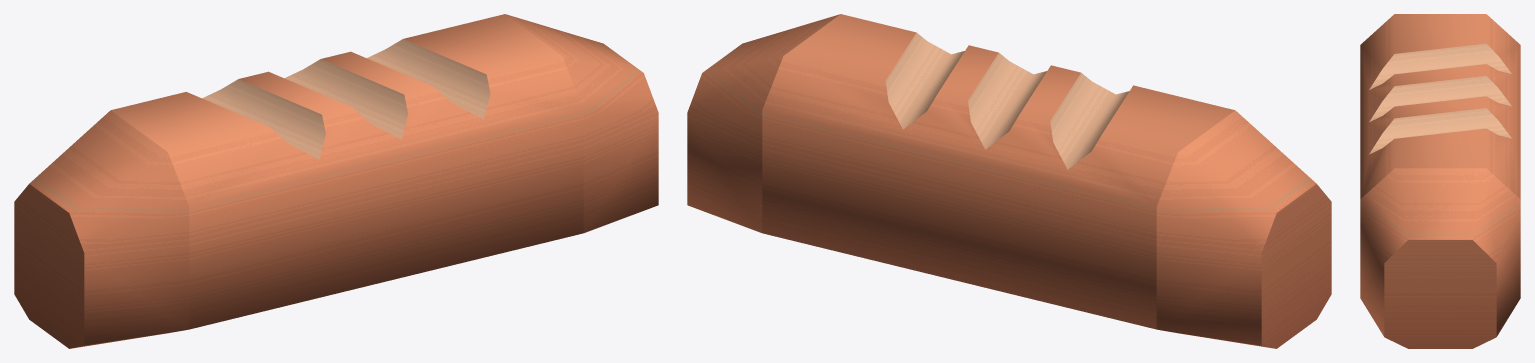
The model's file is loaf-baguette.glb.
3 renders of one model, left to right at view 1: azimuth 30°, elevation 25°; view 2: azimuth 150°, elevation 25°; view 3: azimuth 270°, elevation 25°, orthographic. The views are drawn at different scales.
Parts seen in each view (by area): view 1: loaf-baguette; view 2: loaf-baguette; view 3: loaf-baguette.
Boxes of the visible parts, x1,y1,x2,y2 form: loaf-baguette: (14, 14, 658, 348); loaf-baguette: (687, 14, 1331, 348); loaf-baguette: (1360, 14, 1520, 348).
Bounding box in the file's own units: 0.83 × 0.25 × 0.25.
1 material, 1 textured.
